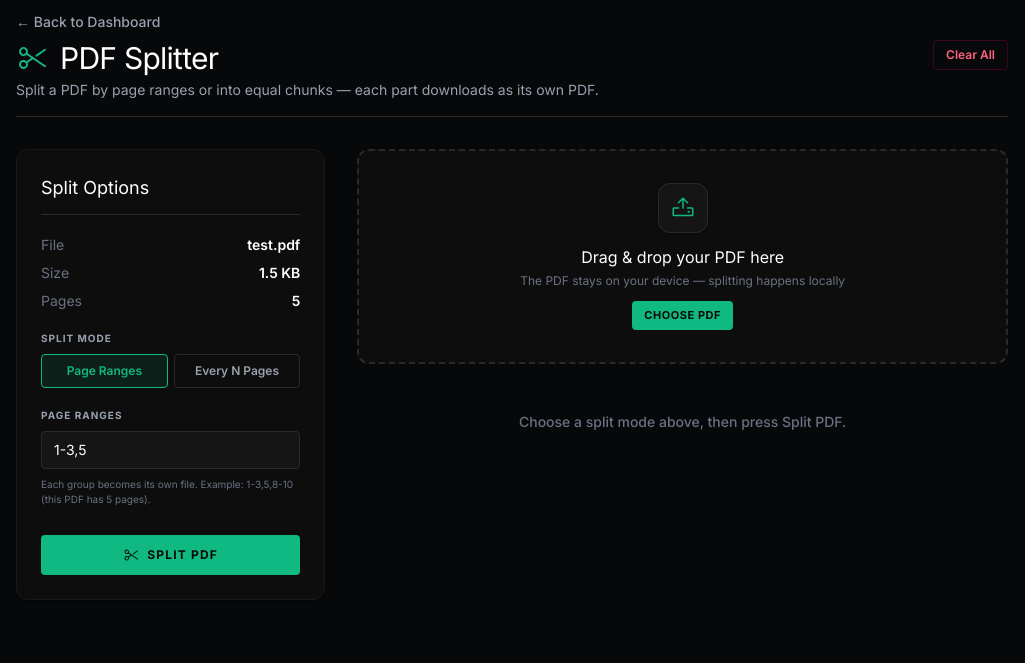
PdfSplitter component › splits an uploaded PDF by page ranges into downloadable parts
The image size is (1025, 663).
Earlier steps of the test are not shown.
Expected: the text "this PDF has 5 pages" is shown, [41,493,148,505]
In the field labelled "Page Ranges": (171, 450) [41,431,300,469], type "1-2,4"
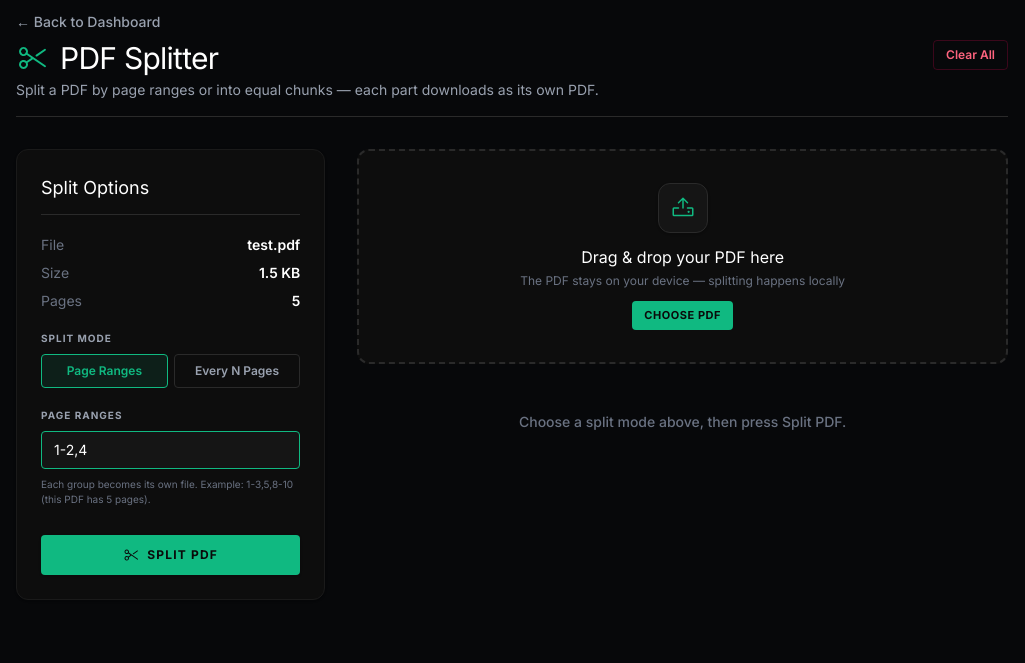
Click the button "Split PDF": (171, 555) [41,535,300,575]
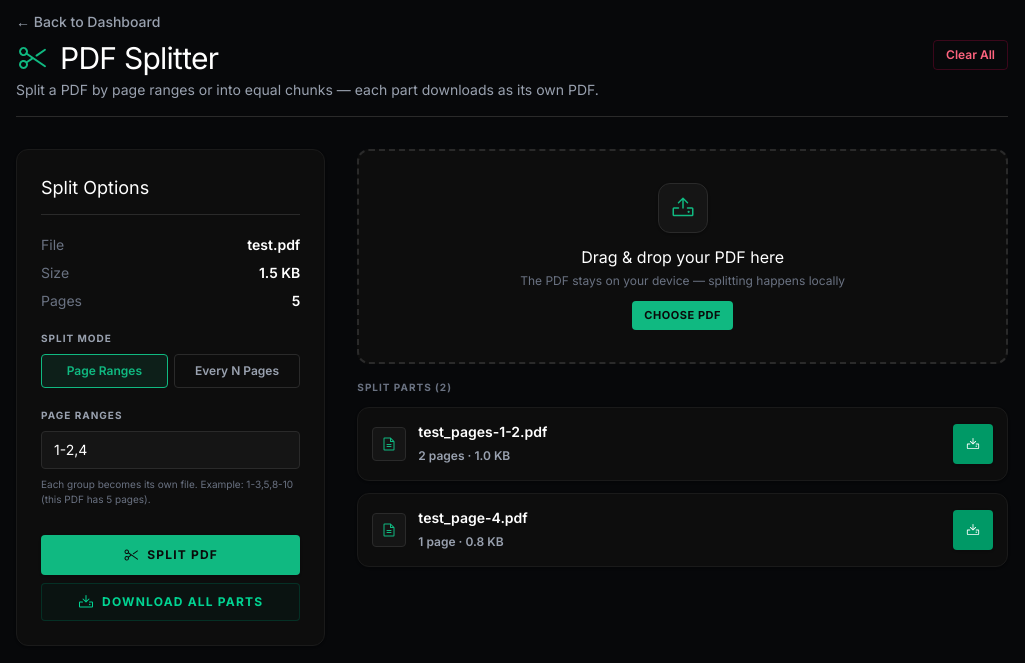
Now the text "Split parts (2)" is shown, box [357,380,452,392]
Now the heading "test_pages-1-2.pdf" is shown, box [418,422,547,442]
Now the heading "test_page-4.pdf" is shown, box [418,508,528,528]
